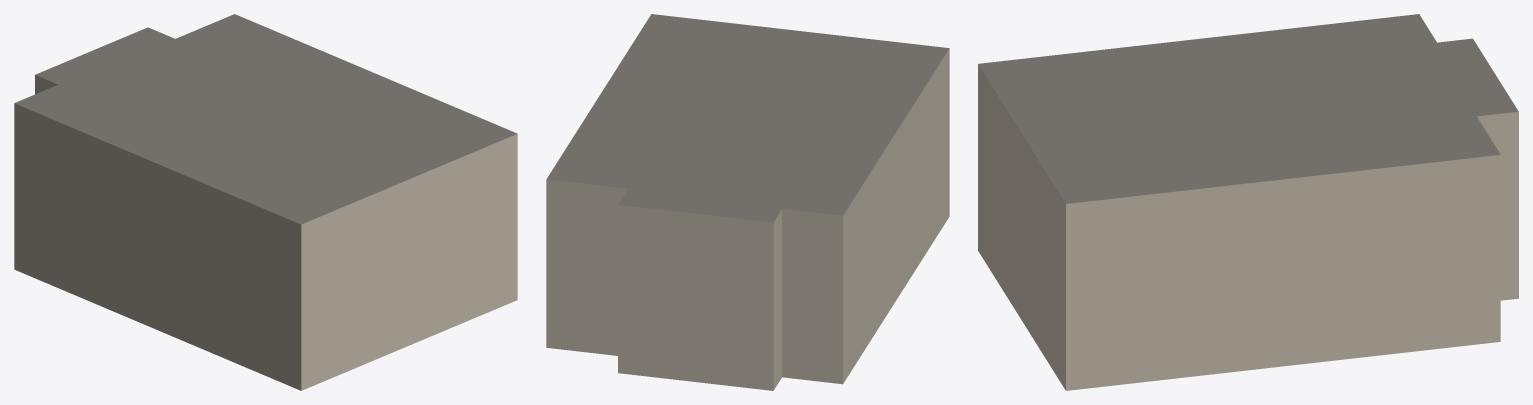
3 views of the same model, side by side, from view 1: azimuth 30°, elevation 25°; view 2: azimuth 150°, elevation 25°; view 3: azimuth 270°, elevation 25° (orthographic). The views are drawn at different scales.
Parts seen in each view (by area): view 1: HP-w757502015; view 2: HP-w757502015; view 3: HP-w757502015.
Boxes of the visible parts, x1,y1,x2,y2 form: HP-w757502015: [14, 14, 517, 390]; HP-w757502015: [546, 14, 949, 390]; HP-w757502015: [978, 14, 1518, 390].
Size of the model in its own units: 39.23 by 18 by 47.18.
